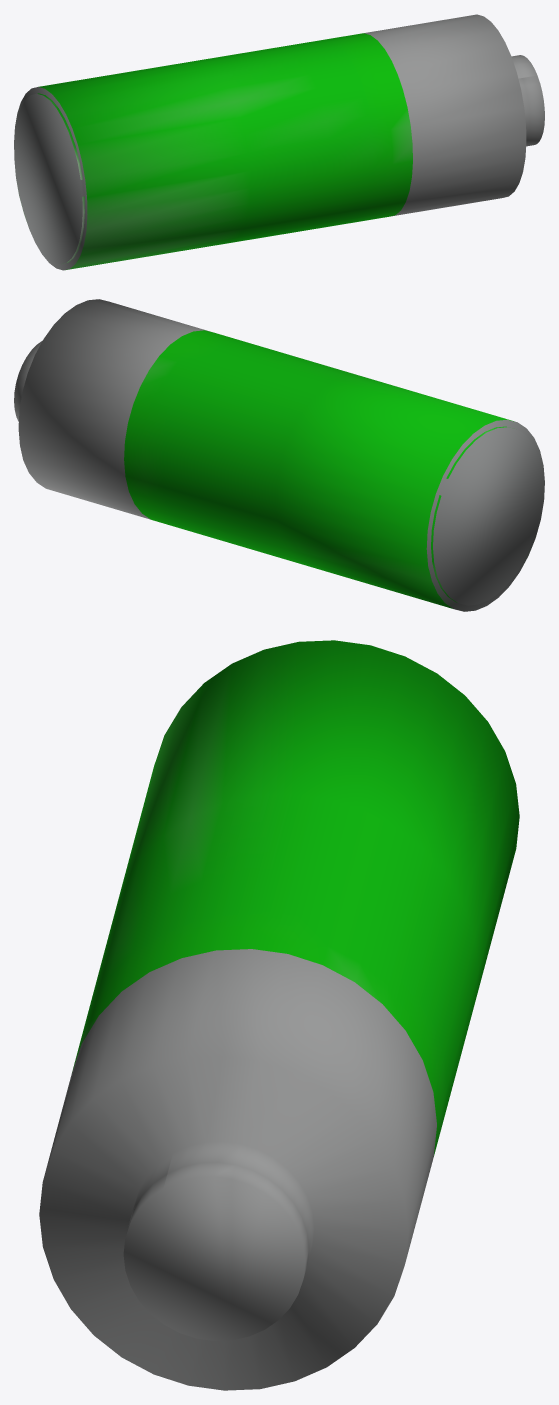
The model's file is Life-Battery.fbx.
The picture shows the model from 3 angles, top to bottom: view 1: azimuth 30°, elevation 25°; view 2: azimuth 150°, elevation 25°; view 3: azimuth 270°, elevation 25°; orthographic projection. The views are drawn at different scales.
Parts seen in each view (by area): view 1: Cylinder; view 2: Cylinder; view 3: Cylinder.
Boxes of the visible parts, x1,y1,x2,y2 form: Cylinder: [14, 14, 544, 270]; Cylinder: [14, 299, 544, 611]; Cylinder: [39, 640, 519, 1390].
Bounding box in the file's own units: 497 × 181 × 224.
